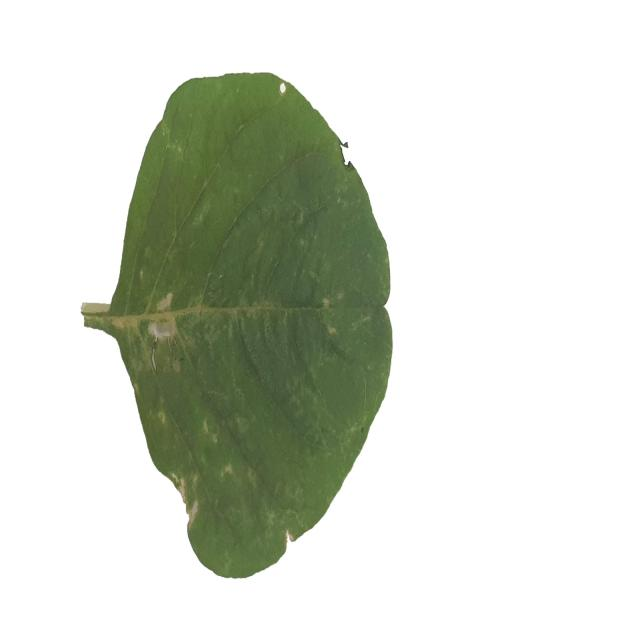Medicinal-Arive Dantu: (86, 66, 388, 580)
